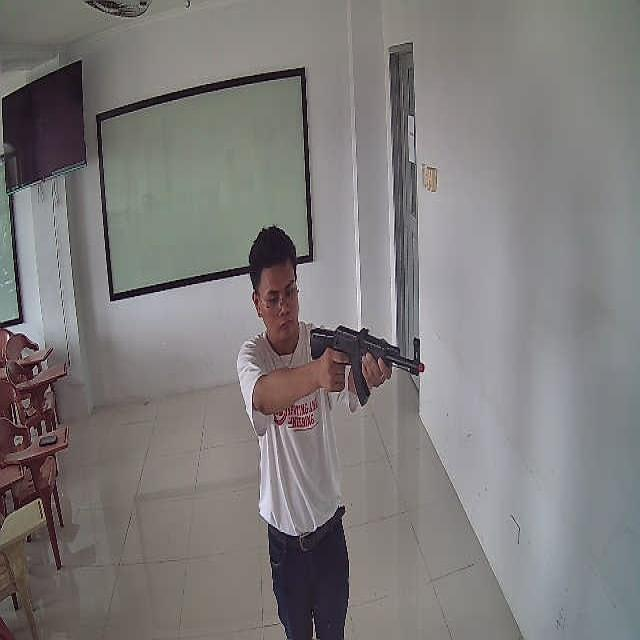rifle: (310, 325, 425, 407)
